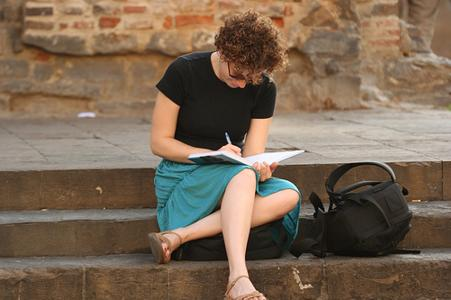person: (149, 13, 301, 300)
